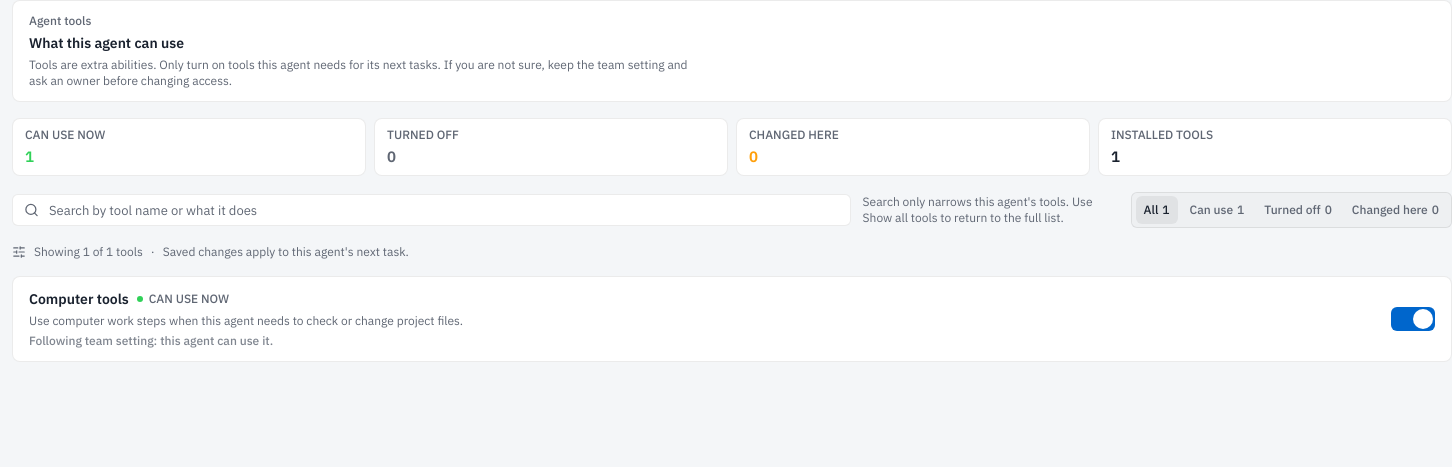
Scenario: AgentPluginsTab › explains filter-only empty tool lists
The image size is (1452, 467).
Expected: the text "Computer tools" is shown, [29,289,129,309]
Step 1. Click the button with aria-label "show tools turned off for this agent, 0 matching tools" → click(1298, 210), box [1256,196,1340,224]
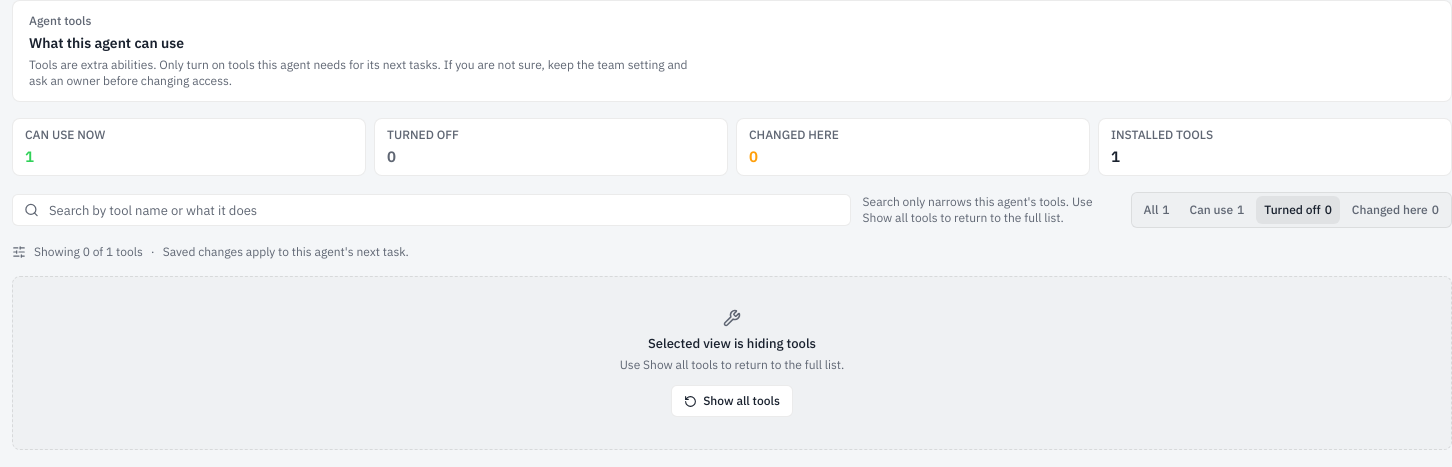
Expected: the text "Selected view is hiding tools" is shown, [648,335,816,353]
Expected: the message with test id "agent-plugin-filter-empty" shows "Use Show all tools to return to the full list.", [620,357,844,372]
Step 2. Click the button "Show all tools" → click(732, 401), box [671,385,793,417]
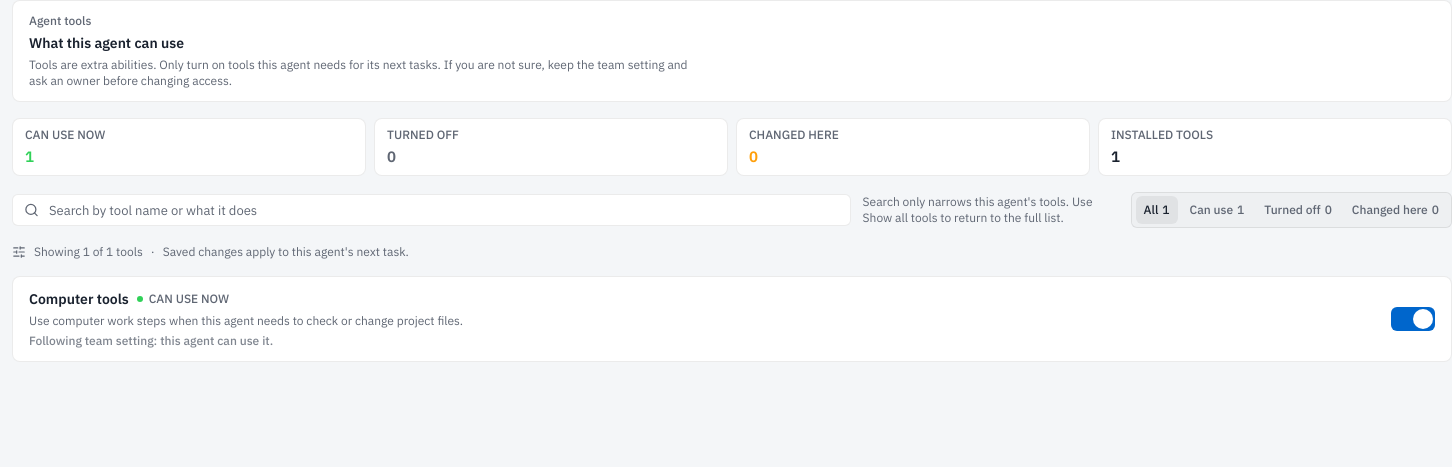
Expected: the text "Computer tools" is shown, [29,289,129,309]
